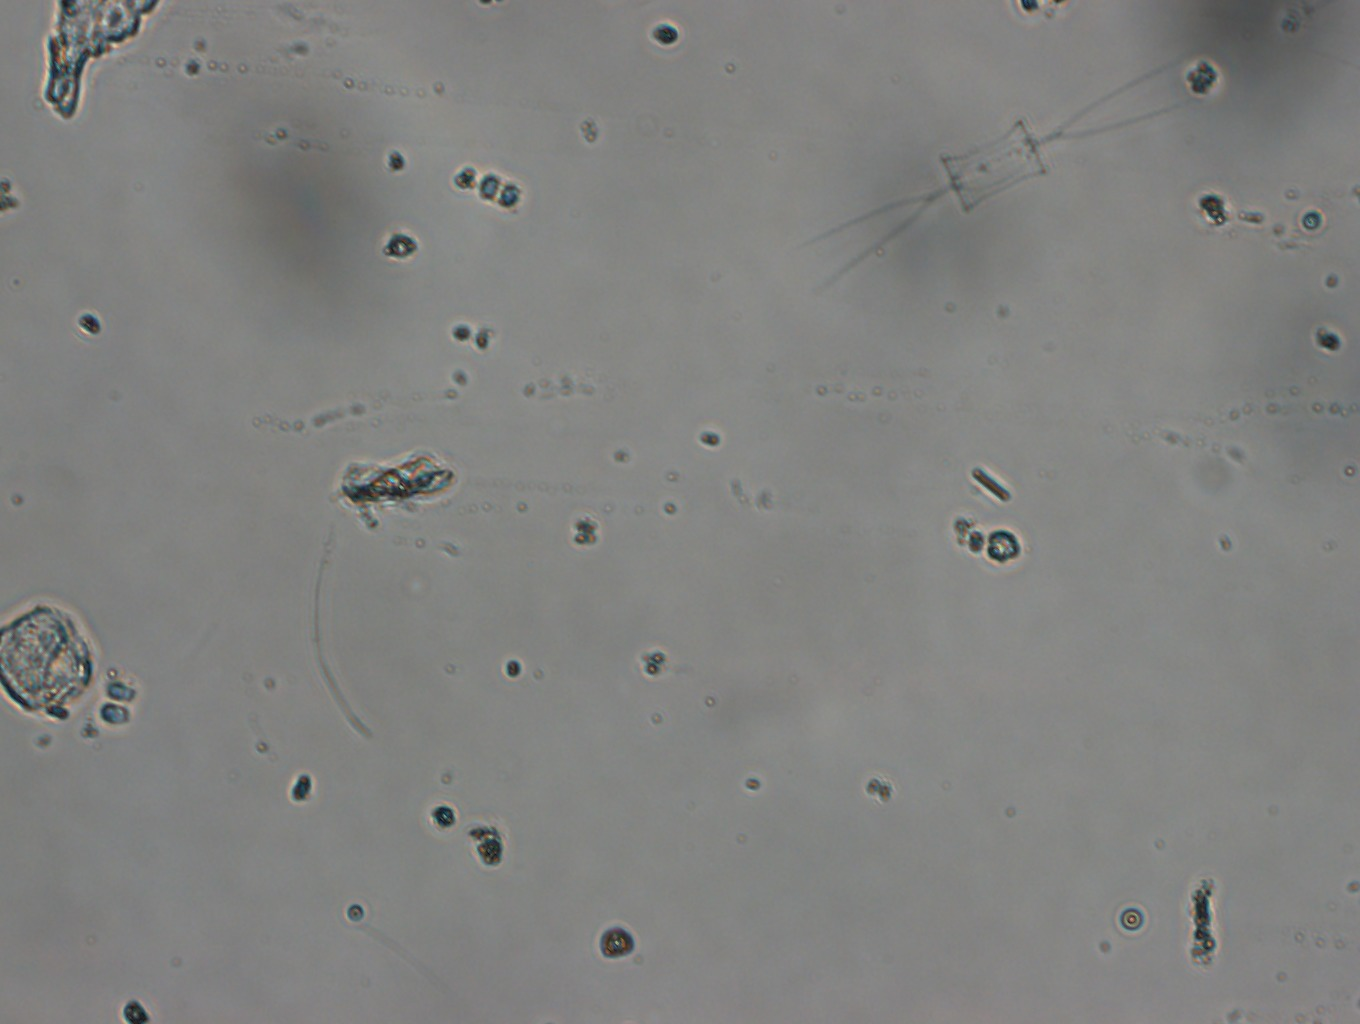chaetoceros: (822, 58, 1182, 278)
